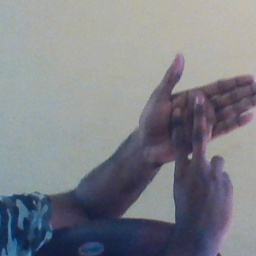N: (138, 50, 256, 216)
